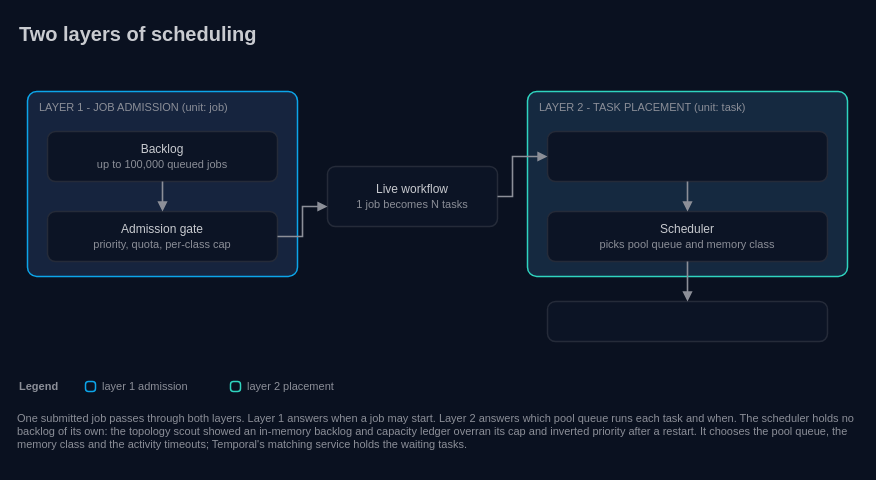
This 876x480 diagram has some shape labels left out. The centre of each missing label's shape, as x and y in pixels:
Temporal task queues hold the backlog: point (687, 156)
Workers poll the chosen pool queue: point (687, 321)
